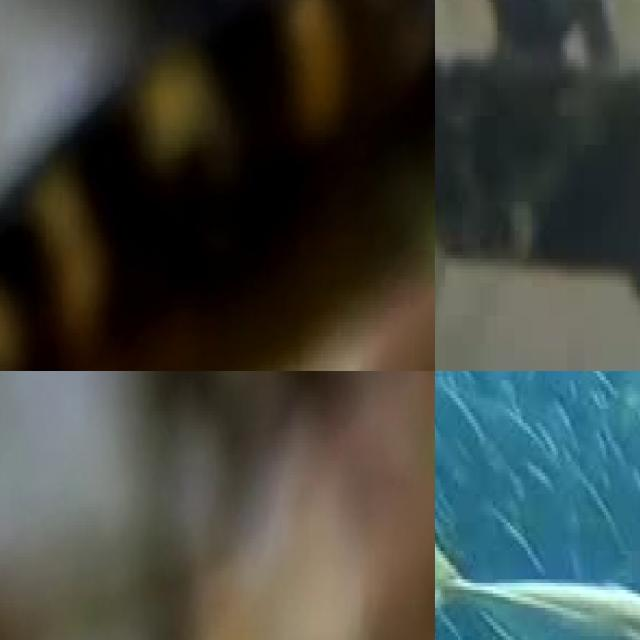fish: (0, 0, 435, 371)
